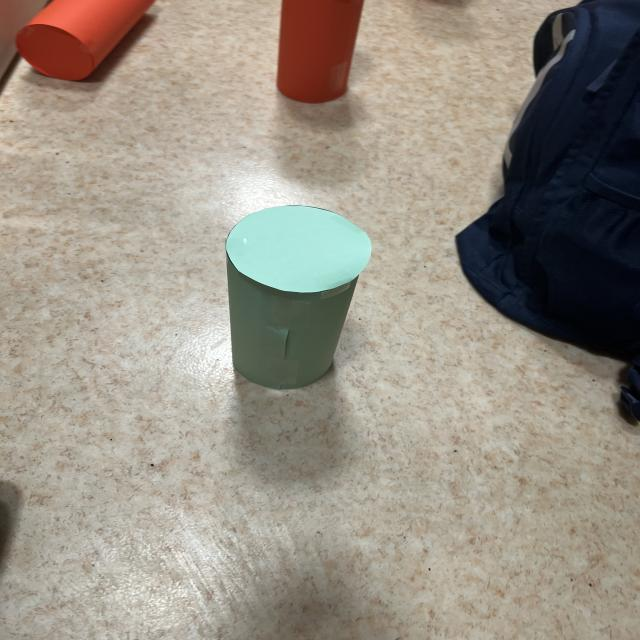meta: (226, 206, 371, 390)
przeszkoda: (16, 0, 155, 80), (276, 0, 364, 103)
